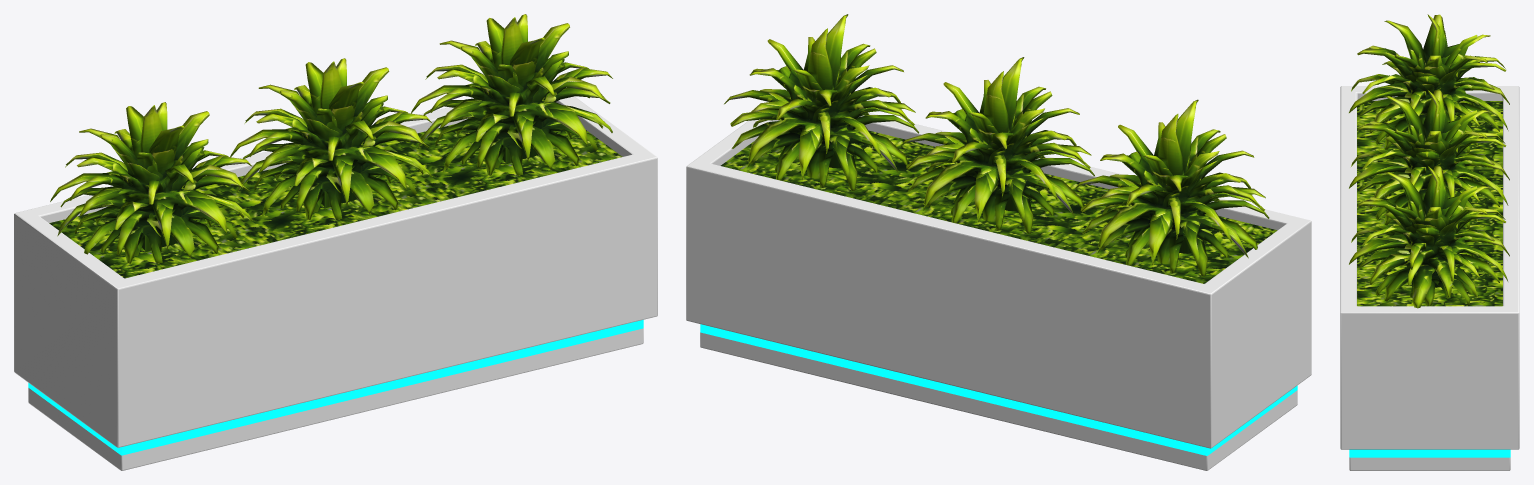
File: PlanterWallBox.fbx
3 renders of one model, left to right at view 1: azimuth 30°, elevation 25°; view 2: azimuth 150°, elevation 25°; view 3: azimuth 270°, elevation 25°, orthographic. The views are drawn at different scales.
Parts seen in each view (by area): view 1: PlanterWallBox, PlanterWallBoxPlant; view 2: PlanterWallBox, PlanterWallBoxPlant; view 3: PlanterWallBoxPlant, PlanterWallBox.
Part boxes in pixels (<box>): PlanterWallBox: <box>14,96,657,470</box>; PlanterWallBoxPlant: <box>49,14,622,278</box>; PlanterWallBox: <box>686,112,1311,470</box>; PlanterWallBoxPlant: <box>720,14,1277,283</box>; PlanterWallBoxPlant: <box>1349,14,1509,308</box>; PlanterWallBox: <box>1340,86,1519,470</box>.
Size of the model in its own units: 90 by 50 by 30.
Materials: 2 (2 with a texture image).
